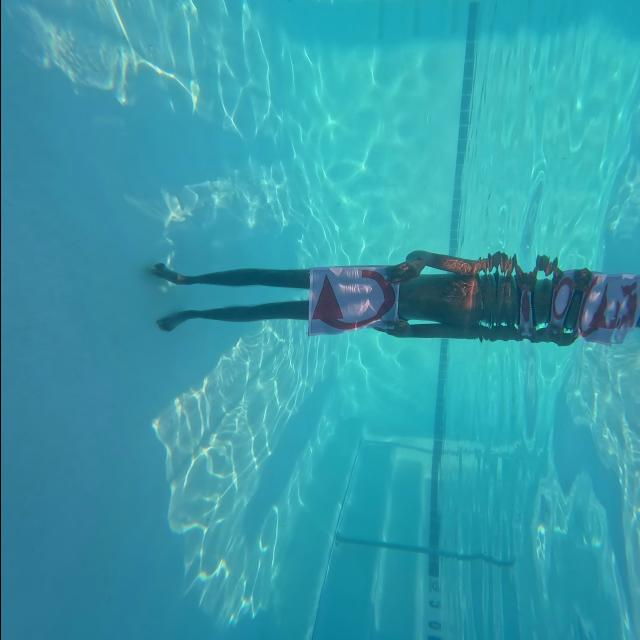red_side: (301, 262, 395, 338)
